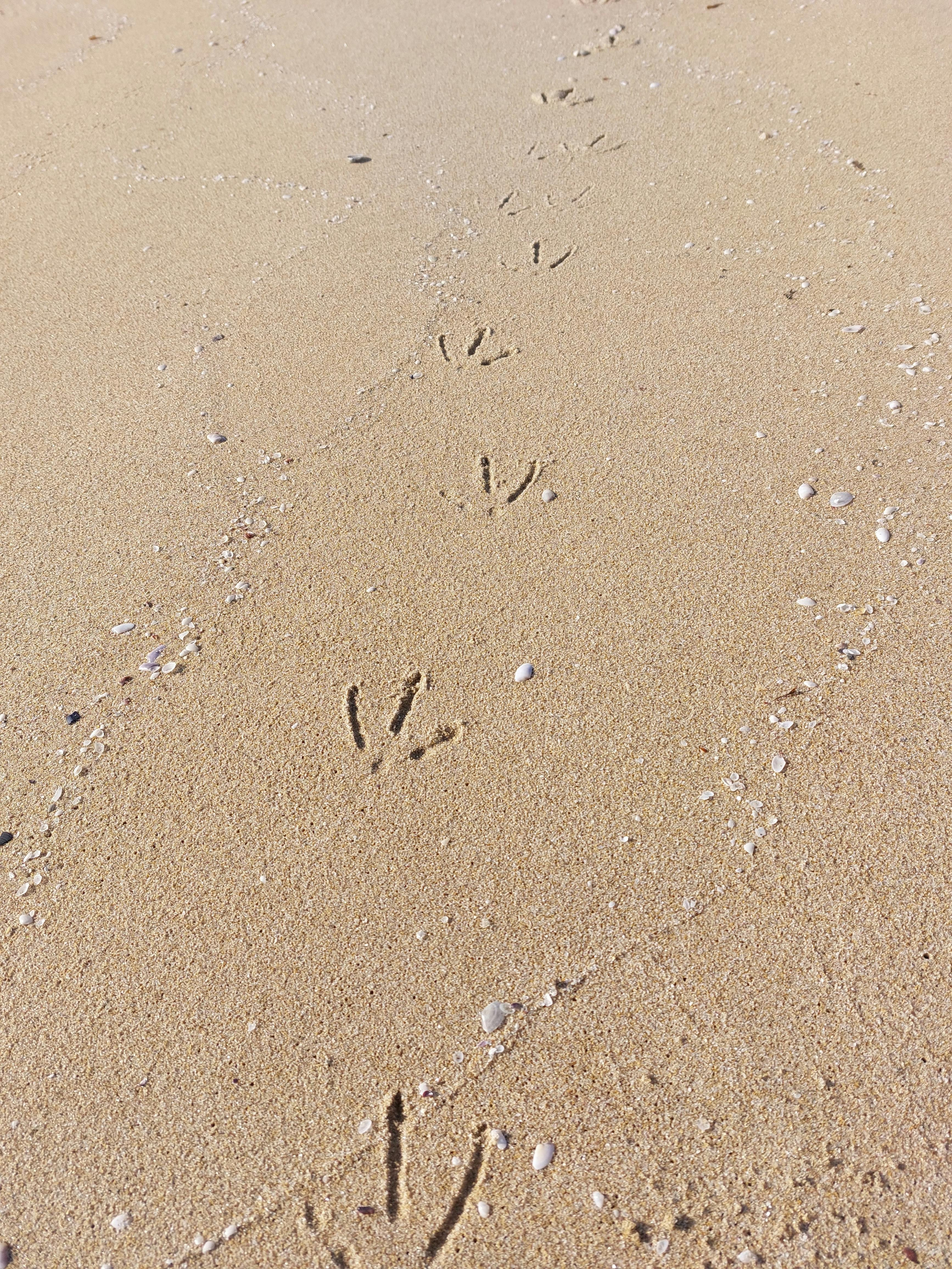animal_footprint: (302, 1091, 488, 1269), (342, 669, 465, 773), (478, 454, 543, 514), (437, 324, 519, 369), (526, 238, 577, 270), (531, 86, 594, 106)
